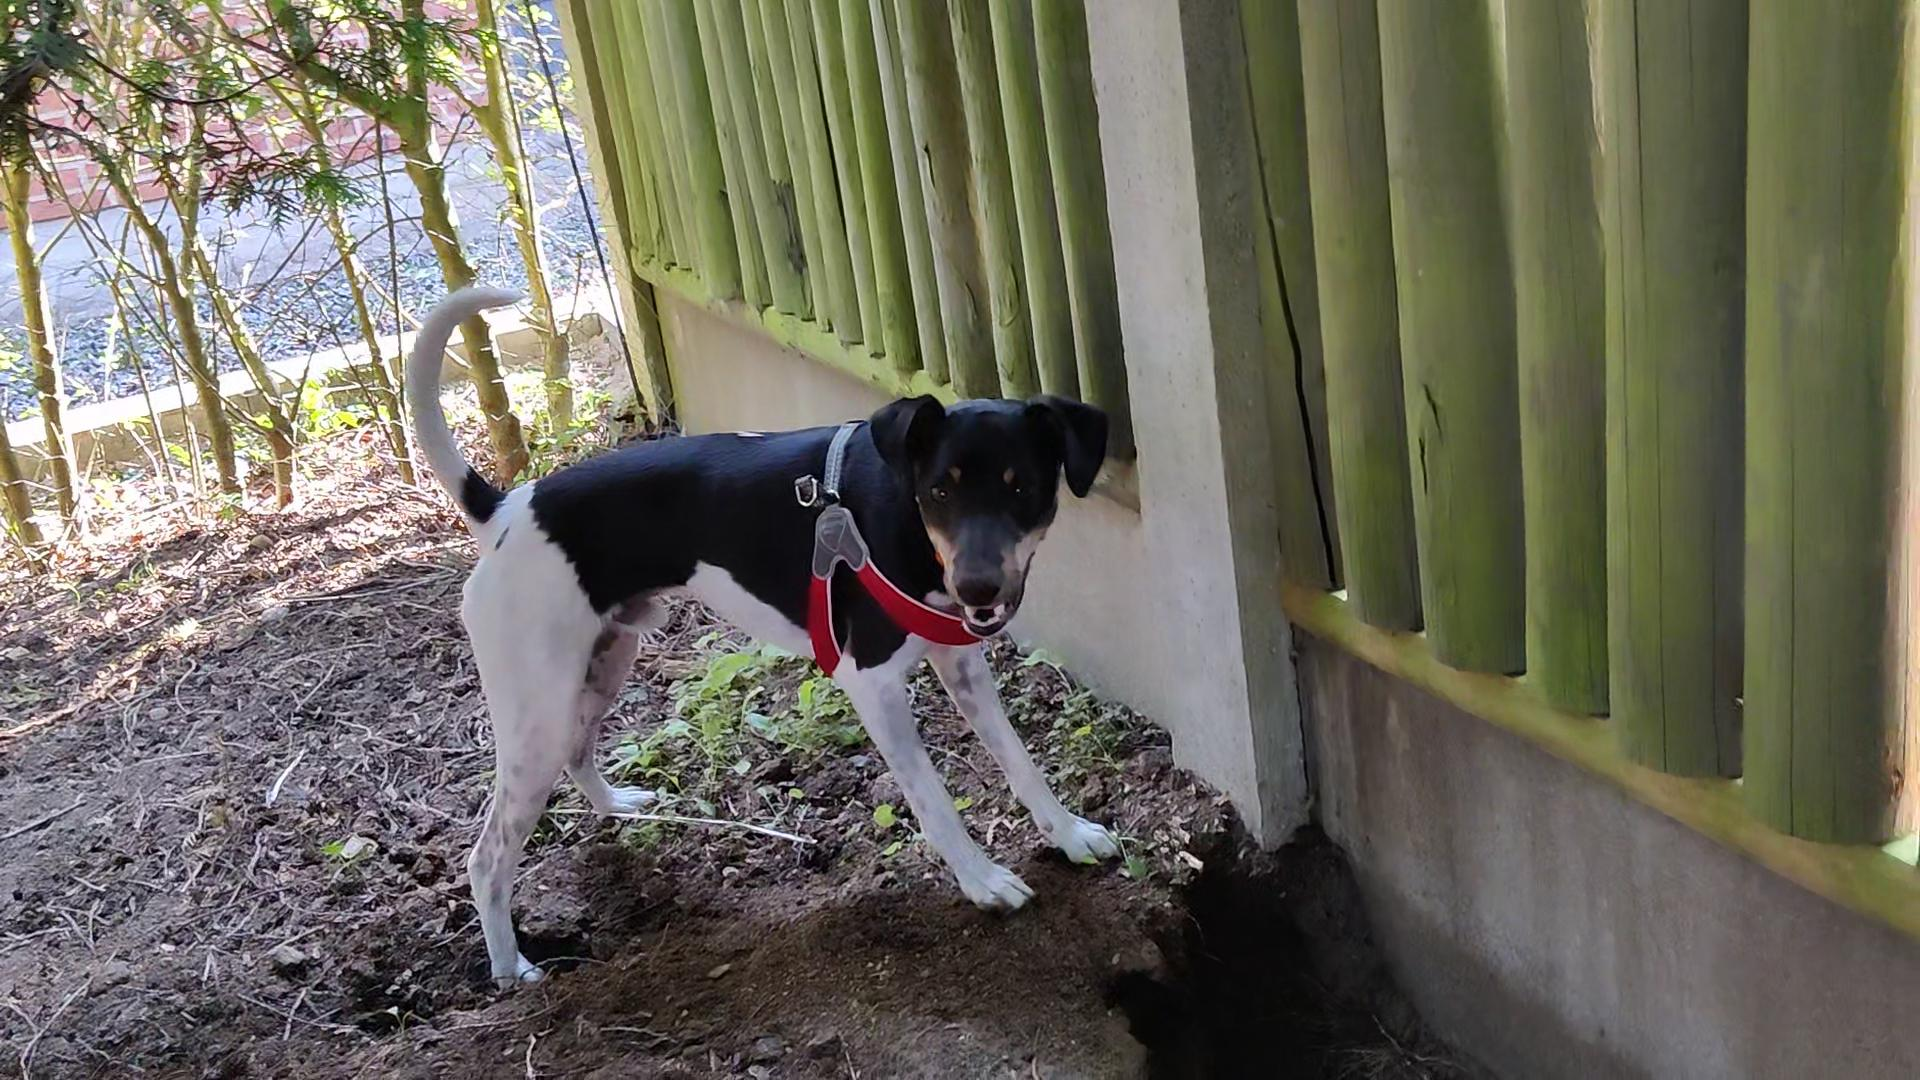Dog: (375, 258, 1156, 1004)
